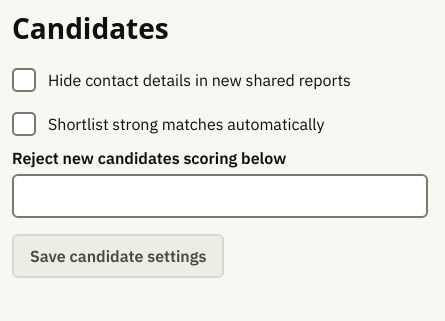
candidate preferences › shows a refusal in words and keeps the choice
The width and height of the screenshot is (445, 321).
Click the checkbox labelled "Hide contact details in new shared reports". click: (24, 80)
box: [12,68,36,92]
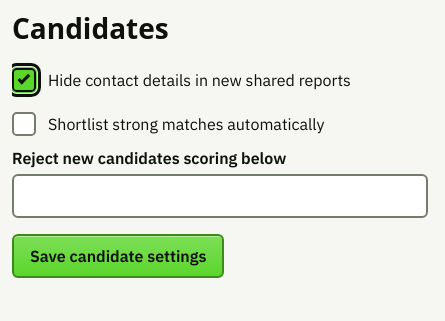
Click the button "Save candidate settings". click: (118, 256)
box: [12,234,224,278]
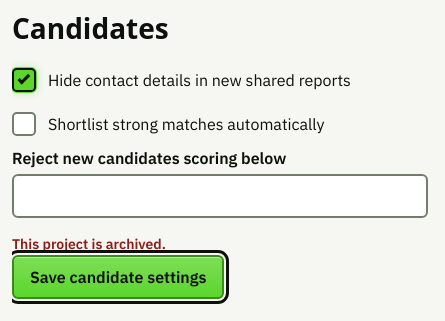
Expected: the message reads "This project is archived.", [12,235,166,253]
